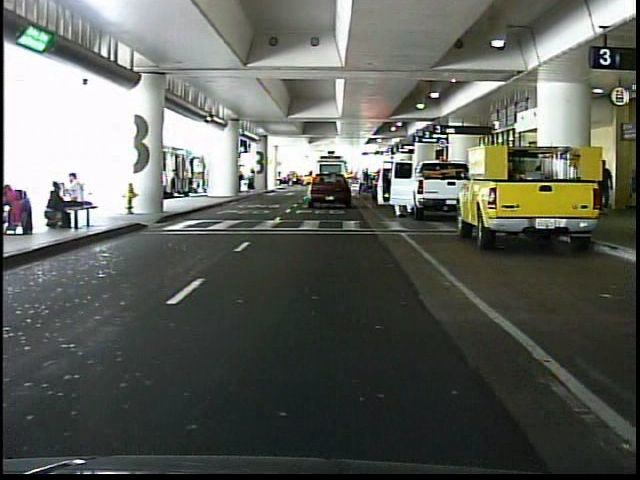person: (595, 156, 618, 216), (631, 147, 639, 233), (247, 167, 259, 193)
